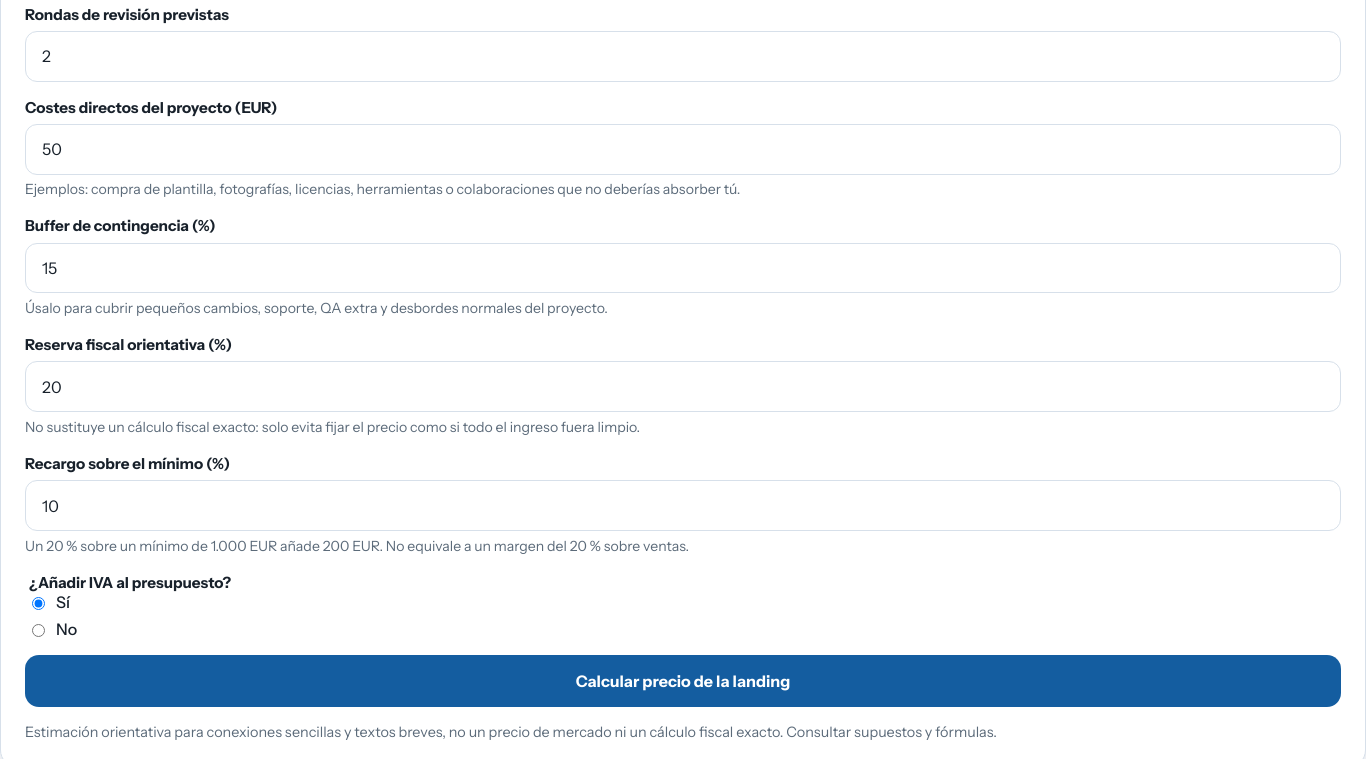
CalculatorForm › renders the result card when the form is valid
(page scrolled)
Click the button "Calcular precio de la landing" at {"x": 683, "y": 681}, box x1=25 y1=655 x2=1341 y2=707
(page scrolled)
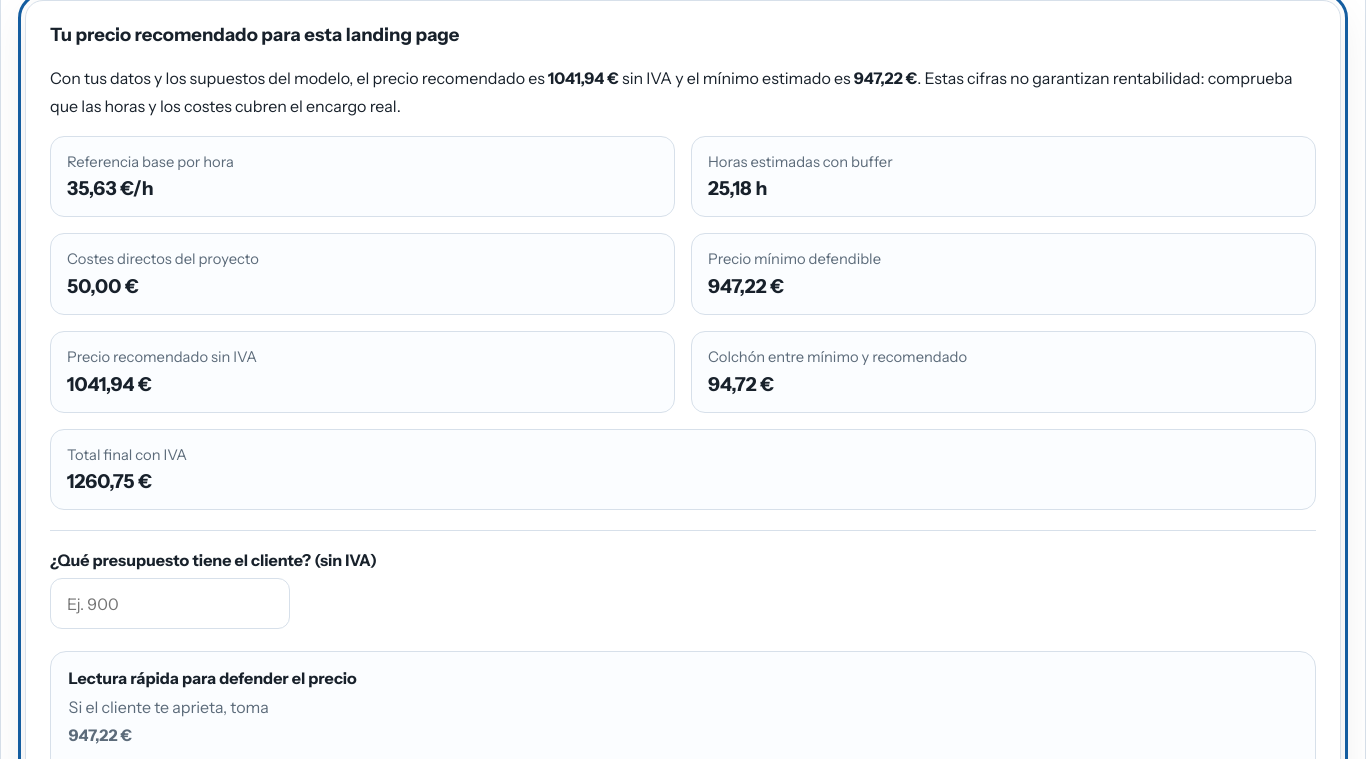
Expected: the heading "Tu precio recomendado para esta landing page" is shown, x1=50 y1=23 x2=459 y2=46
Expected: the text "Referencia base por hora" is shown, x1=67 y1=153 x2=234 y2=171
Expected: the text "Precio mínimo defendible" is shown, x1=708 y1=250 x2=881 y2=268
